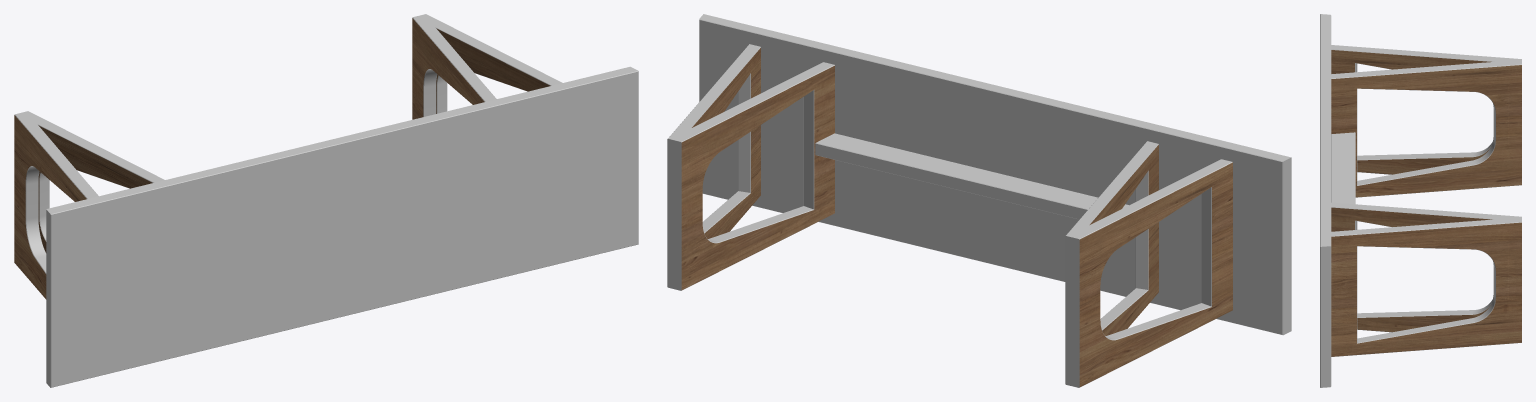
File: odesd2_B2_obj.obj
3 renders of one model, left to right at view 1: azimuth 30°, elevation 25°; view 2: azimuth 150°, elevation 25°; view 3: azimuth 270°, elevation 25°, orthographic. The views are drawn at different scales.
Parts seen in each view (by area): view 1: odesd2_B2; view 2: odesd2_B2; view 3: odesd2_B2.
Part boxes in pixels (box(x1,y1,x2,y2)): odesd2_B2: box(14, 14, 638, 387); odesd2_B2: box(667, 14, 1291, 387); odesd2_B2: box(1320, 14, 1521, 387).
Bounding box in the file's own units: 124 × 35 × 45.4.
